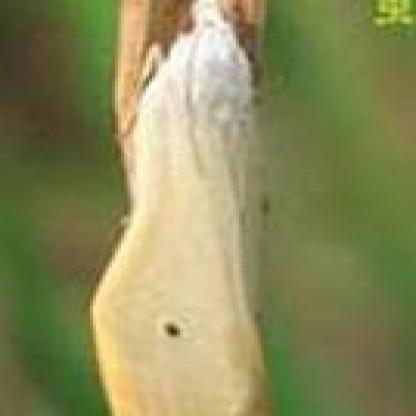stem-borer: (86, 0, 265, 416)
